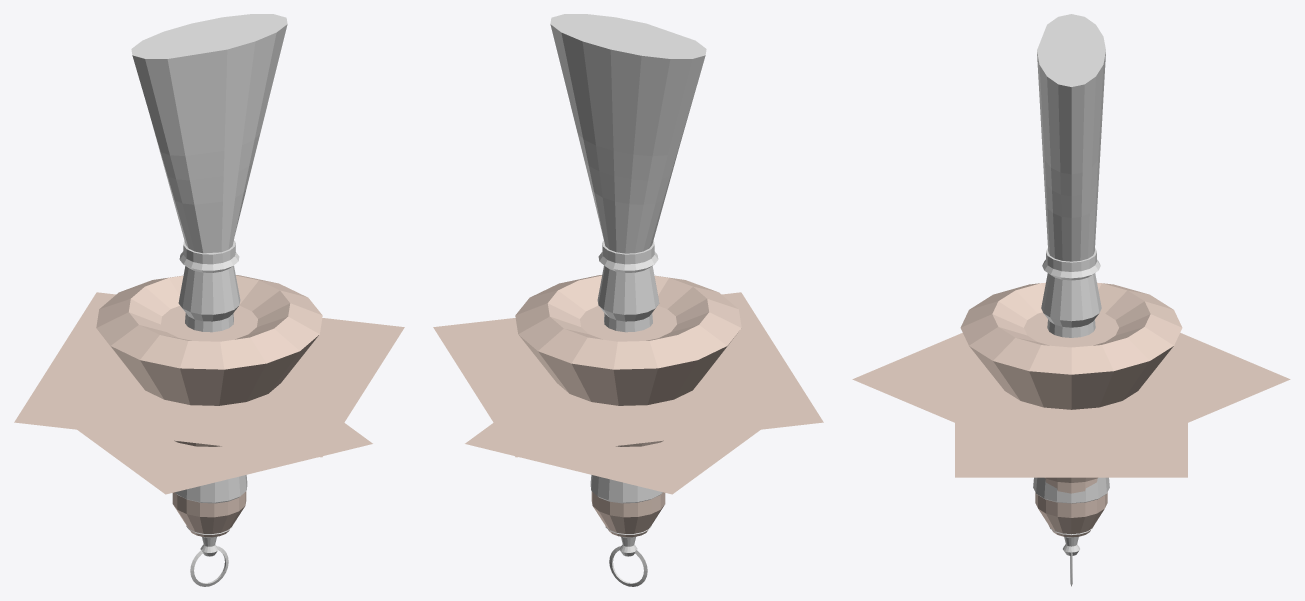
Rendered from Aspergillum.fbx.
3 views of the same model, side by side, from view 1: azimuth 30°, elevation 25°; view 2: azimuth 150°, elevation 25°; view 3: azimuth 270°, elevation 25° (orthographic). The views are drawn at different scales.
Visible parts, largest first — view 1: Devil Tooth, Aspergilum; view 2: Devil Tooth, Aspergilum; view 3: Devil Tooth, Aspergilum.
Part boxes in pixels (left/top/right/bottom): Devil Tooth: left=14, top=275, right=404, bottom=537; Aspergilum: left=131, top=14, right=287, bottom=586; Devil Tooth: left=433, top=275, right=823, bottom=537; Aspergilum: left=550, top=14, right=706, bottom=586; Devil Tooth: left=852, top=282, right=1290, bottom=537; Aspergilum: left=1033, top=14, right=1109, bottom=586.
Size of the model in its own units: 395 by 531 by 395.
